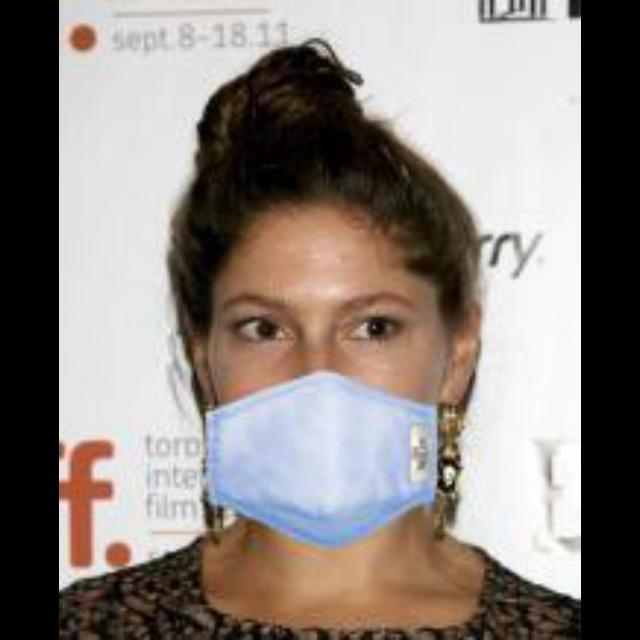suspicion: (161, 114, 504, 560)
